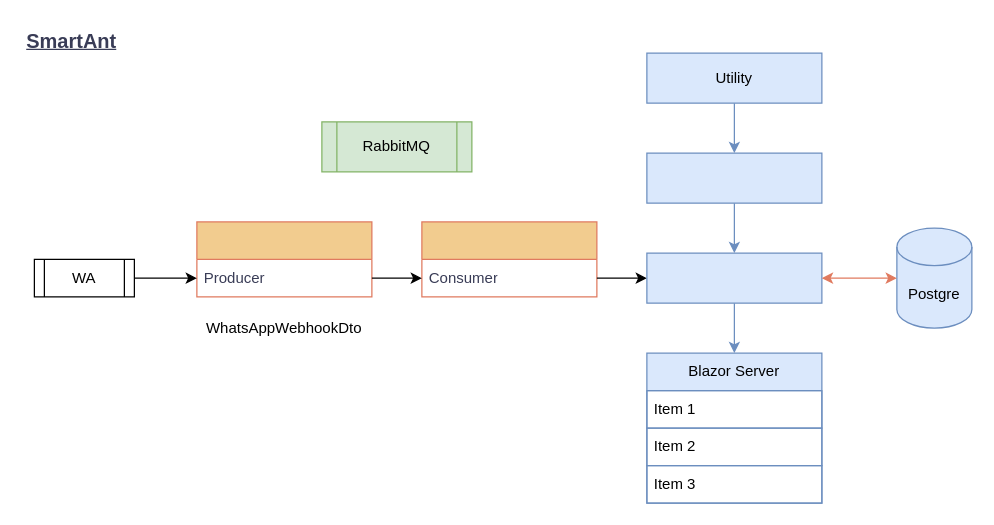
Some shapes in this 994 by 525 pixel diagram are drawn without their labels. The box of each missing label's shape, as (x1, y1, x2, y2) in pixels:
DataAcces: (646, 252, 822, 303)
Models: (646, 152, 822, 203)
WebApi: (196, 221, 372, 297)
Worker: (421, 221, 597, 297)
